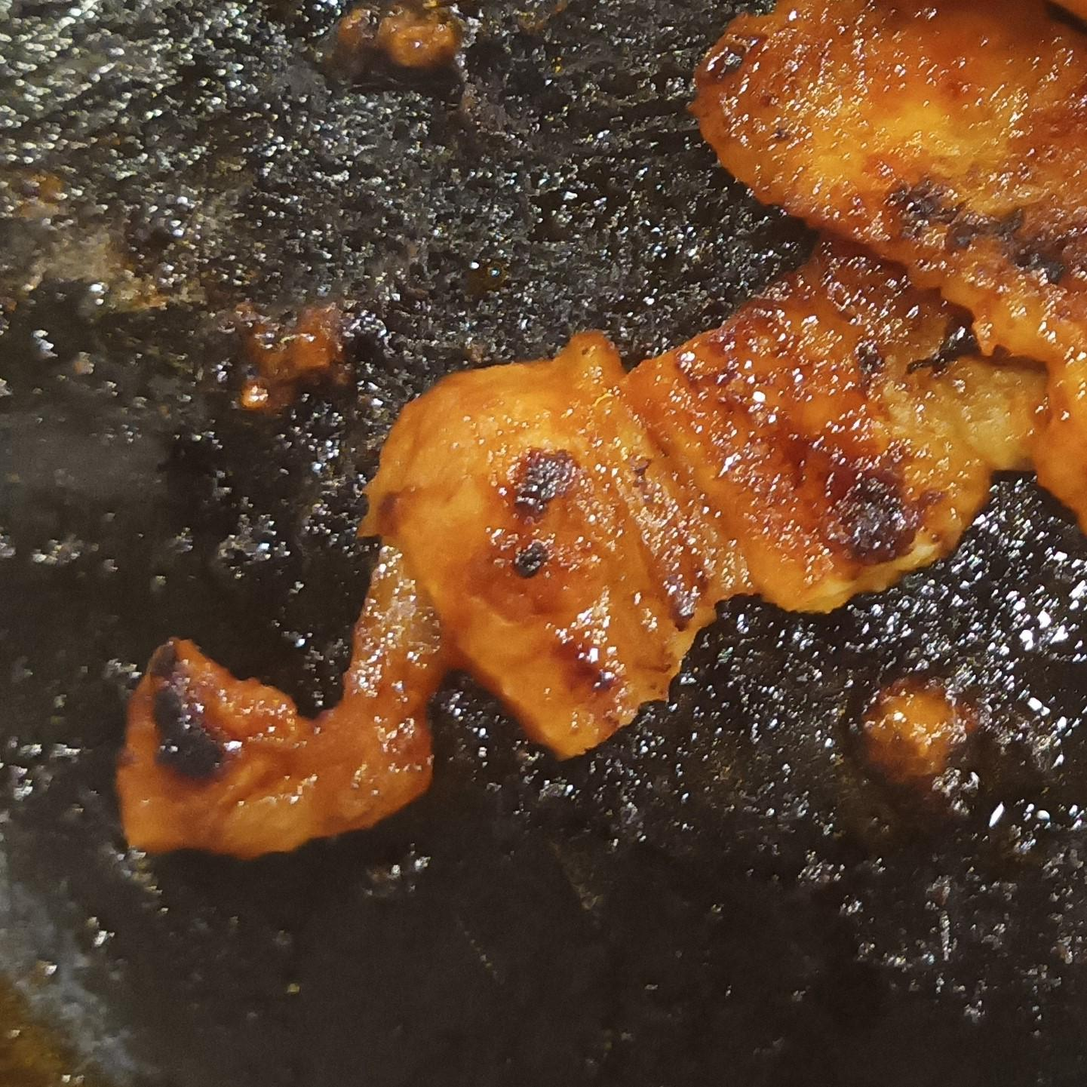Overcooked: (692, 0, 1086, 530), (621, 238, 1086, 612), (362, 332, 738, 756), (115, 545, 474, 858)
